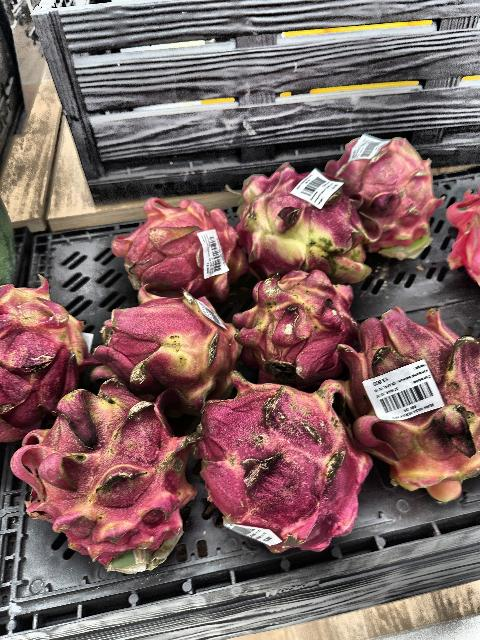buah-naga-belum-matang: (191, 373, 372, 552), (21, 388, 193, 568), (332, 308, 480, 502), (239, 162, 372, 284), (82, 291, 237, 395), (338, 133, 440, 260), (242, 270, 356, 378), (0, 281, 84, 424)
buah-naga-matang: (111, 194, 247, 300), (448, 185, 480, 289)
